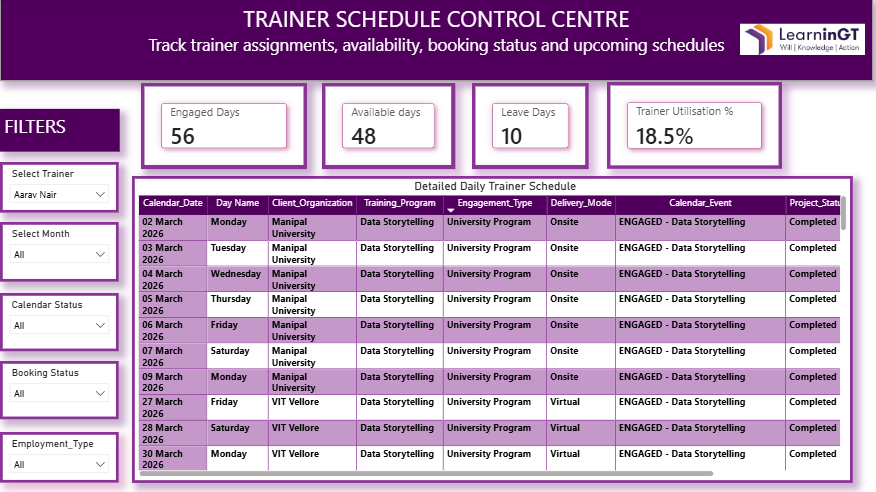

Layout of this report page (visuals, bound fields, positions):
{"tool":"powerbi","page":{"name":"Schedule Control","canvas":[1280,720],"ordinal":3},"visuals":[{"type":"textbox","box":[0,0,1256.8,118],"z":0},{"type":"slicer","fields":{"Values":["Dim_Trainer.Trainer_Name"]},"box":[0,234.7,171.4,73.4],"z":1000},{"type":"slicer","fields":{"Values":["Dim_Date.Month Name"]},"box":[0,321.1,171.4,86.4],"z":2000},{"type":"slicer","fields":{"Values":["Fact_TrainerCalendar.Calendar Status Final"]},"box":[0,423.4,171.4,83.5],"z":3000},{"type":"tableEx","title":"Detailed Daily Trainer Schedule","fields":{"Values":["Fact_TrainerCalendar.Calendar_Date","Dim_Date.Day Name","Fact_TrainerCalendar.Client_Organization","Fact_TrainerCalendar.Training_Program","Fact_TrainerCalendar.Engagement_Type","Fact_TrainerCalendar.Delivery_Mode","Fact_TrainerCalendar.Calendar Event Final","Fact_TrainerCalendar.Project_Status","Fact_TrainerCalendar.Booking Status Final","Fact_TrainerCalendar.Calendar Status Final"]},"box":[190.1,254.9,1038.2,442.1],"z":8000},{"type":"textbox","box":[0,159.1,171.6,60.8],"z":9000},{"type":"slicer","fields":{"Values":["Fact_TrainerCalendar.Booking Status Final"]},"box":[0,521.3,171.4,83.5],"z":10000},{"type":"slicer","fields":{"Values":["Fact_TrainerCalendar.Employment_Type"]},"box":[0,623.5,171.4,73.4],"z":11000},{"type":"image","box":[1065.6,8.6,180,99.4],"z":12000},{"type":"cardVisual","fields":{"Data":["Fact_TrainerCalendar.Available Days Final"]},"box":[463.7,121,191.5,123.8],"z":12001},{"type":"cardVisual","fields":{"Data":["Fact_TrainerCalendar.Engaged Days Final"]},"box":[203,121,239,123.8],"z":12002},{"type":"cardVisual","fields":{"Data":["Dim_Date.Leave Days Final"]},"box":[679.7,121,168.5,123.8],"z":12003},{"type":"cardVisual","fields":{"Data":["Dim_Date.Trainer Utilisation % Final"]},"box":[874.1,119.5,252,125.3],"z":12004}]}

Visuals, with their boxes in screenshot pixels (x1, y1, x2, y2), scaled from the page's 1280x720 canvas onto the 876x492 screenshot:
textbox: box=[0, 0, 860, 81]
slicer - Dim_Trainer.Trainer_Name: box=[0, 160, 117, 211]
slicer - Dim_Date.Month Name: box=[0, 219, 117, 278]
slicer - Fact_TrainerCalendar.Calendar Status Final: box=[0, 289, 117, 346]
"Detailed Daily Trainer Schedule" tableEx: box=[130, 174, 841, 476]
textbox: box=[0, 109, 117, 150]
slicer - Fact_TrainerCalendar.Booking Status Final: box=[0, 356, 117, 413]
slicer - Fact_TrainerCalendar.Employment_Type: box=[0, 426, 117, 476]
image: box=[729, 6, 852, 74]
cardVisual - Fact_TrainerCalendar.Available Days Final: box=[317, 83, 448, 167]
cardVisual - Fact_TrainerCalendar.Engaged Days Final: box=[139, 83, 302, 167]
cardVisual - Dim_Date.Leave Days Final: box=[465, 83, 580, 167]
cardVisual - Dim_Date.Trainer Utilisation % Final: box=[598, 82, 771, 167]
